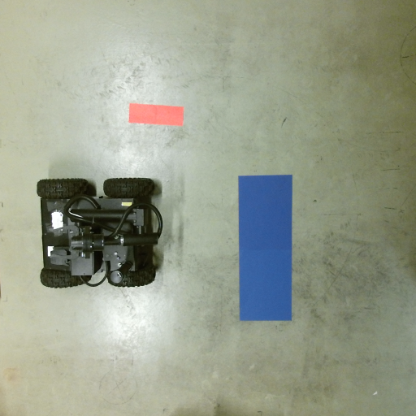Blue: (236, 175, 295, 323)
Jaguar: (34, 177, 164, 291)
Red: (125, 103, 187, 127)
